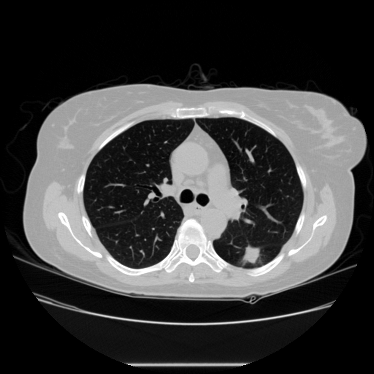nodule: (241, 244, 261, 264)
